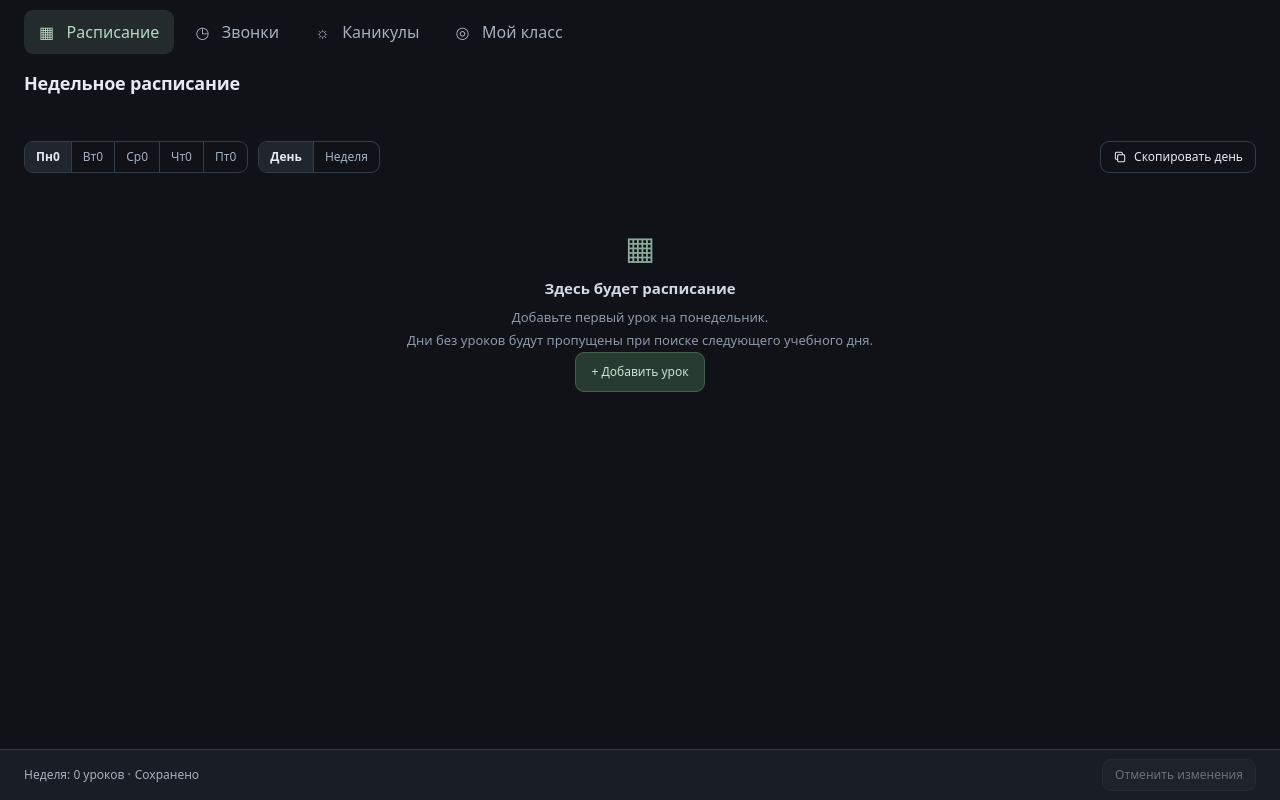
Test: при ошибке записи оставляет правки в черновике и позволяет повторить
Expected: the heading "Здесь будет расписание" is shown, [544, 278, 736, 298]
Click the button "+ Добавить урок" at [640, 372], box [575, 352, 705, 392]
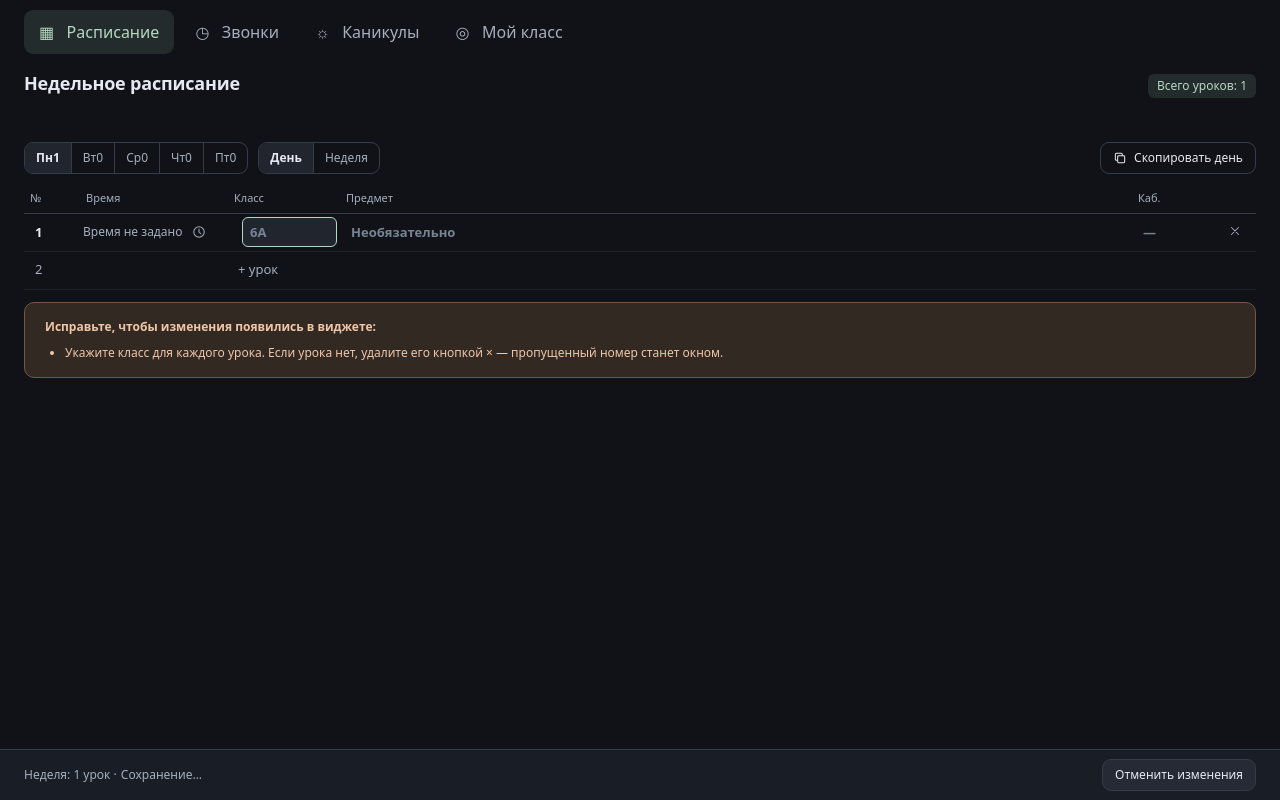
Type "8В" into the field named "Класс *" at [290, 232], box [242, 217, 337, 247]
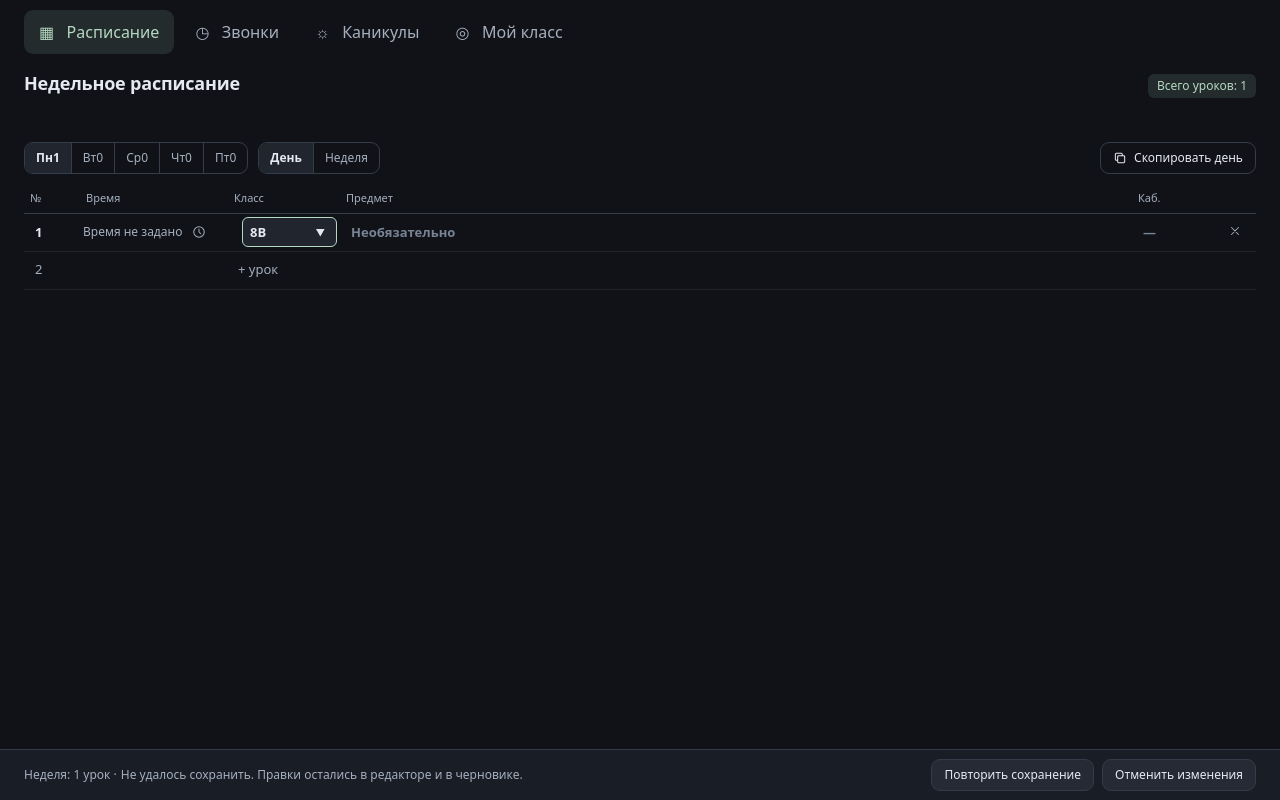
Expected: the text "Не удалось сохранить. Правки остались в редакторе и в черновике." is shown, [121, 766, 523, 783]
Click the button "Повторить сохранение" at [1013, 775], box [931, 759, 1094, 791]
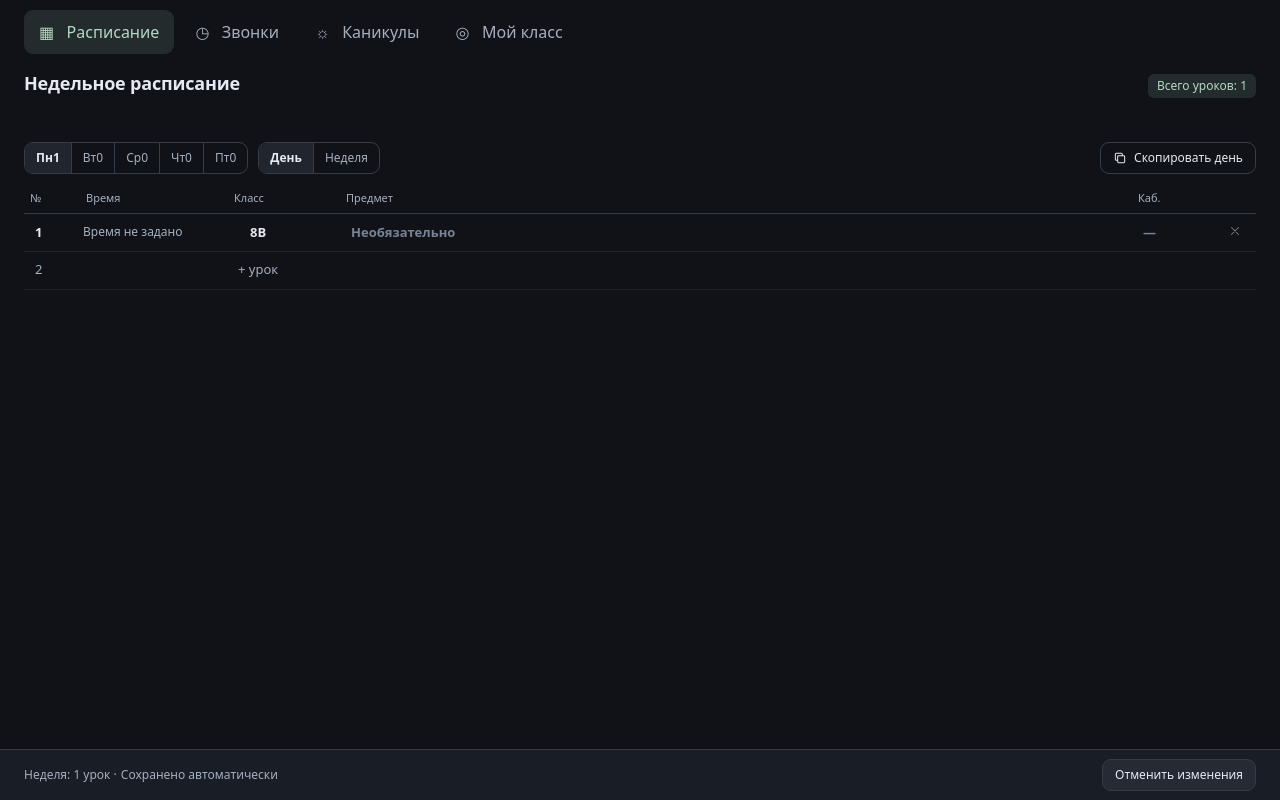
Expected: the text "Сохранено автоматически" is shown, [121, 766, 278, 783]
